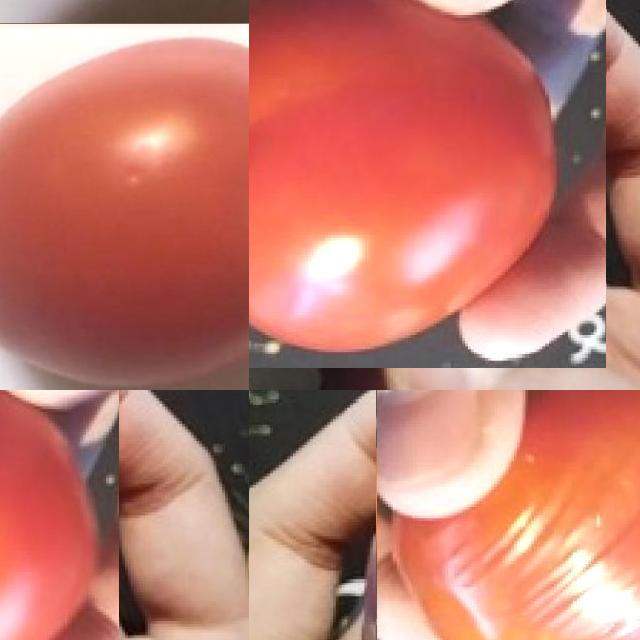0: (249, 0, 606, 368), (0, 390, 119, 640)
Fresh Tomato: (0, 22, 249, 390)
Rotten Tomato: (376, 390, 640, 640)
